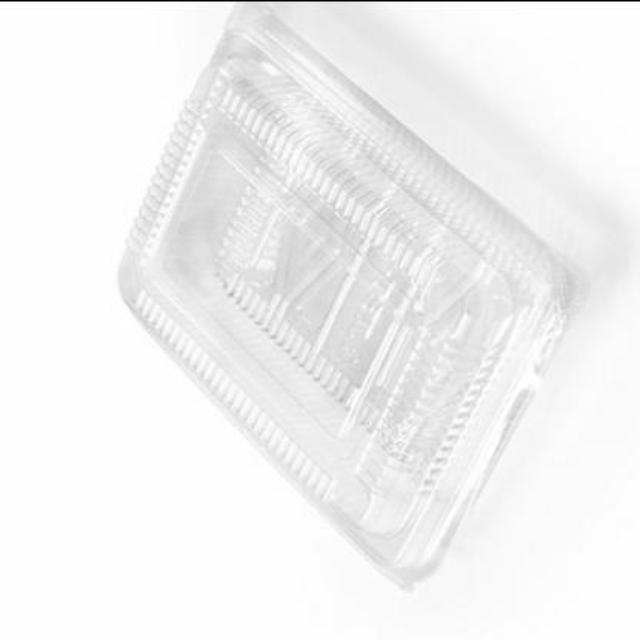plastic_box: (116, 1, 588, 597)
